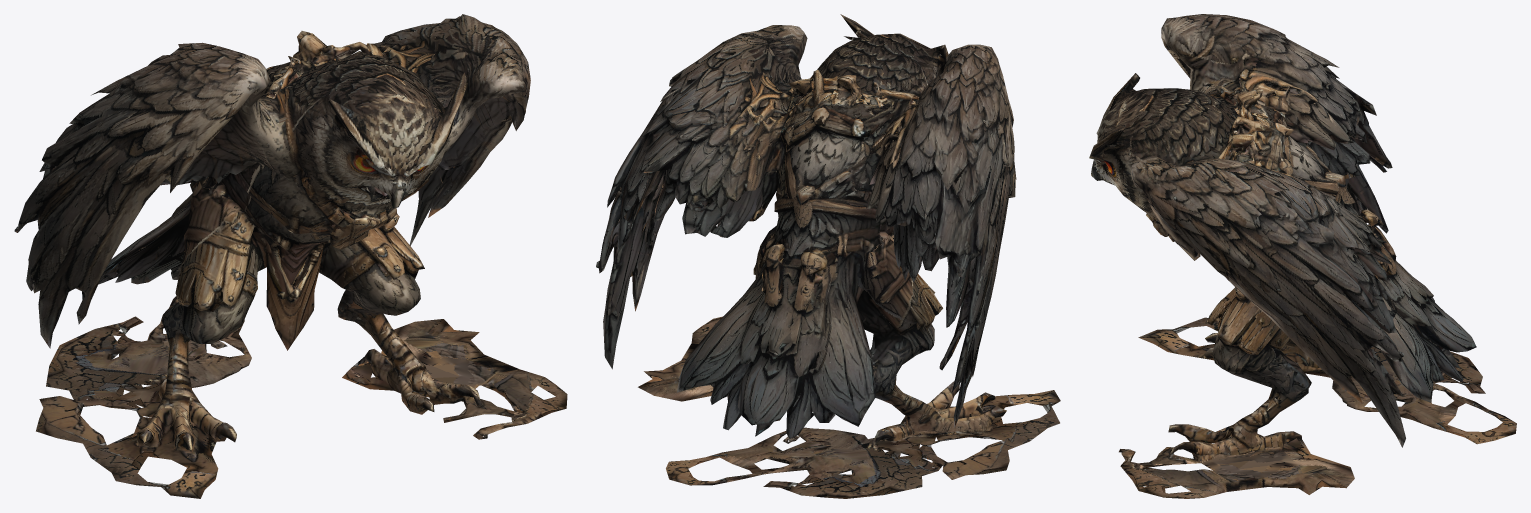
The model's file is Owl.fbx.
3 views of the same model, side by side, from view 1: azimuth 30°, elevation 25°; view 2: azimuth 150°, elevation 25°; view 3: azimuth 270°, elevation 25° (orthographic). The views are drawn at different scales.
Parts seen in each view (by area): view 1: texture_mapping; view 2: texture_mapping; view 3: texture_mapping.
Part boxes in pixels (x1,y1,x2,y2): texture_mapping: [14, 14, 567, 498]; texture_mapping: [596, 14, 1060, 498]; texture_mapping: [1089, 14, 1516, 498].
Bounding box in the file's own units: 0.892 × 0.8658 × 0.7808.
Materials: 1 (1 with a texture image).
